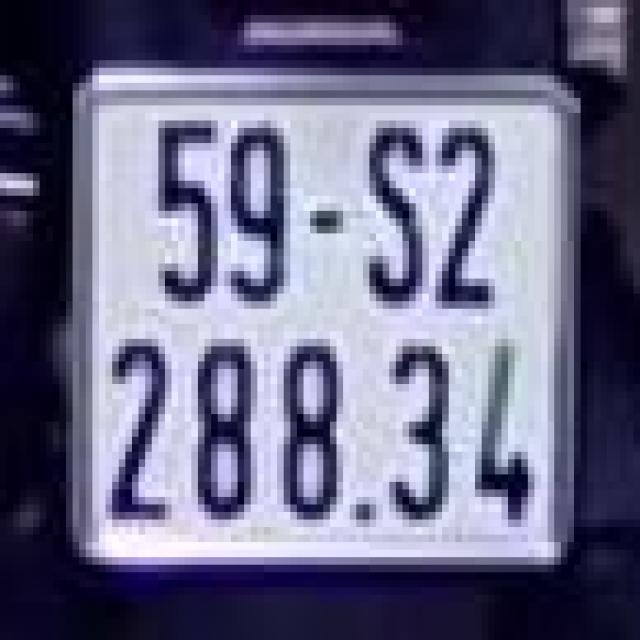2: (99, 335, 178, 531), (432, 106, 505, 316)
3: (379, 327, 458, 531)
4: (468, 328, 541, 524)
5: (142, 106, 221, 316)
8: (270, 323, 350, 520), (188, 339, 261, 527)
9: (221, 101, 300, 312)
S: (350, 106, 429, 316)
